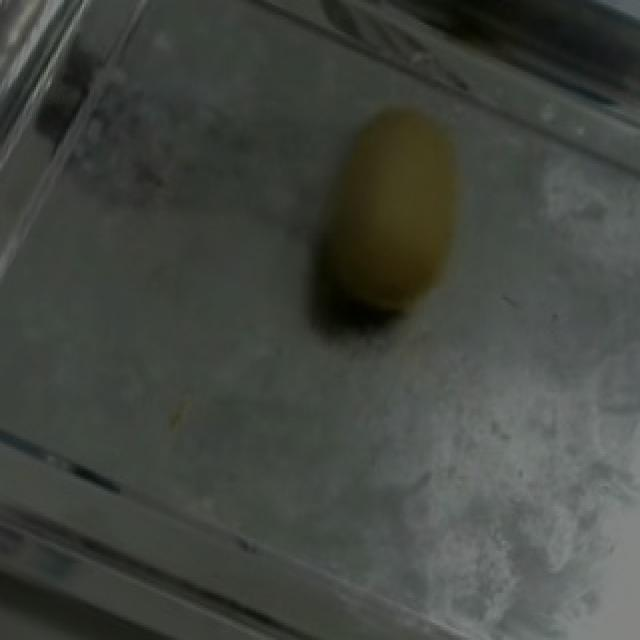Fruit: (272, 77, 510, 355)
